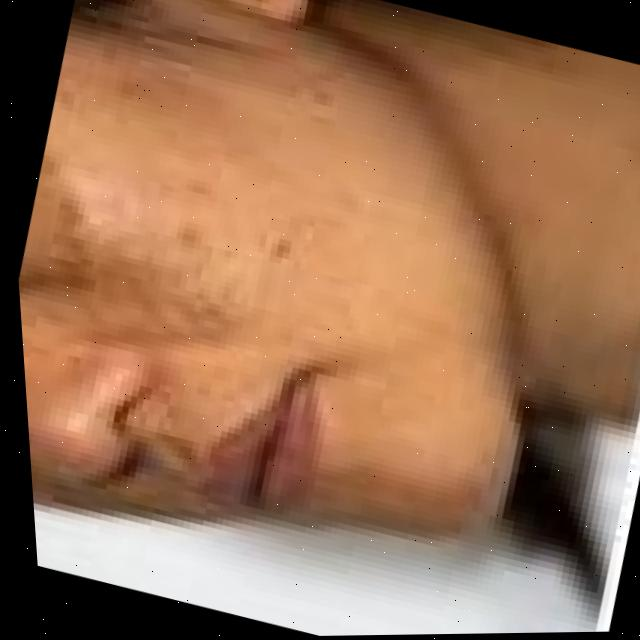Melasma: (52, 162, 305, 353)
